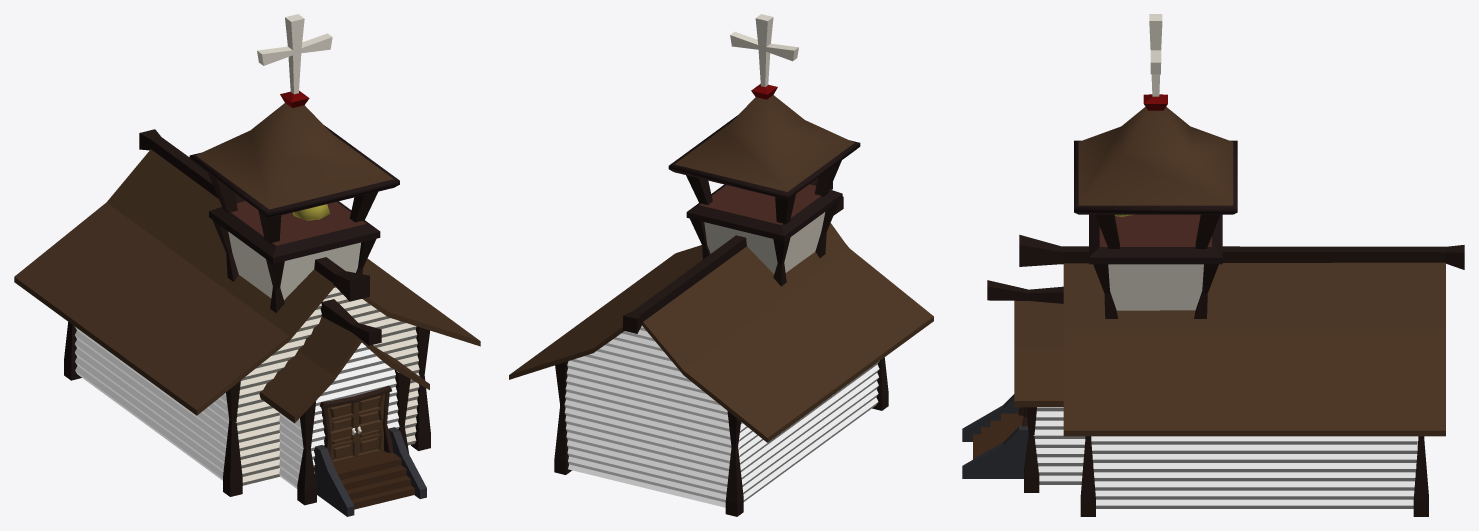
The model's file is Church.fbx.
3 renders of one model, left to right at view 1: azimuth 30°, elevation 25°; view 2: azimuth 150°, elevation 25°; view 3: azimuth 270°, elevation 25°, orthographic. The views are drawn at different scales.
Visible parts, largest first — view 1: Plane.065; view 2: Plane.065; view 3: Plane.065.
Part boxes in pixels (x1,y1,x2,y2): Plane.065: (14, 14, 480, 516); Plane.065: (509, 14, 933, 516); Plane.065: (962, 14, 1464, 516).
Bounding box in the file's own units: 1006 × 1451 × 1472.
